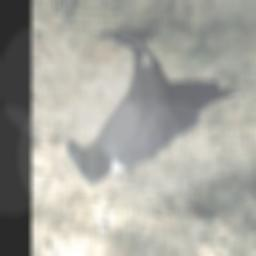Crow: (67, 26, 240, 188)
